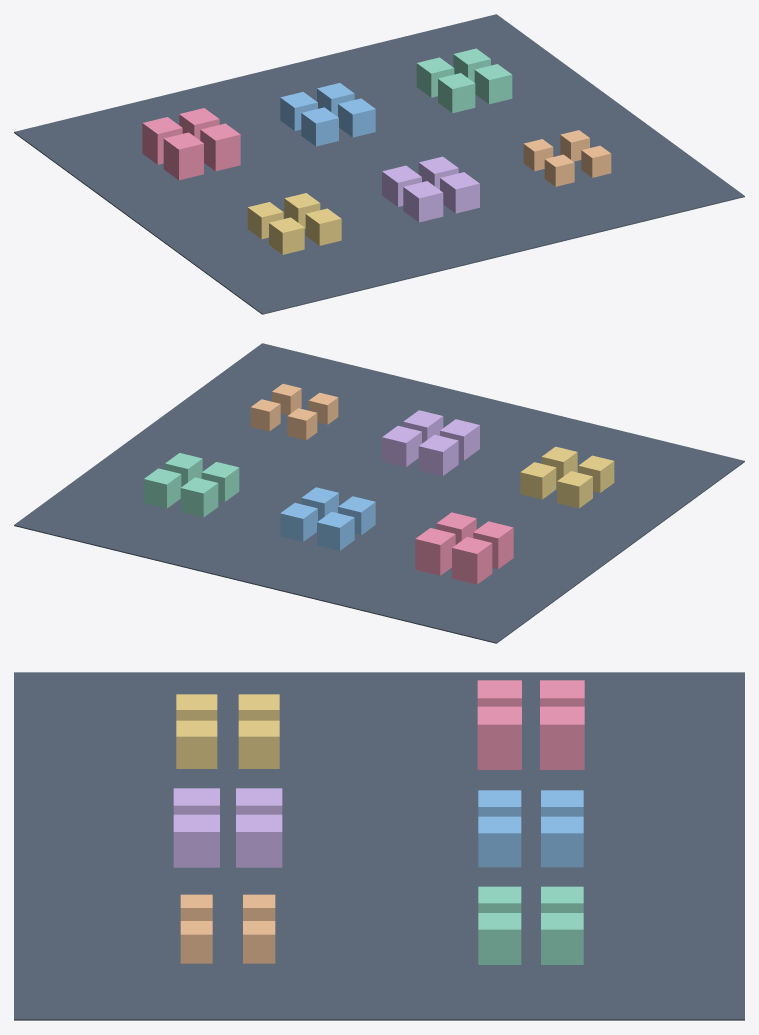
File: demo-fab.gltf
3 renders of one model, top to bottom at view 1: azimuth 30°, elevation 25°; view 2: azimuth 150°, elevation 25°; view 3: azimuth 270°, elevation 25°, orthographic. The views are drawn at different scales.
Parts seen in each view (by area): view 1: FLOOR, EUV_03, EUV_04, IMP_03, IMP_04, CVD_04, CVD_03, ETCH_03, ETCH_04, EUV_01, CMP_04, CMP_03 (+13 smaller); view 2: FLOOR, EUV_01, EUV_02, IMP_01, IMP_02, CVD_01, CVD_02, ETCH_01, ETCH_02, EUV_03, CMP_02, CMP_01 (+13 smaller); view 3: FLOOR, EUV_02, EUV_04, IMP_02, IMP_04, CVD_04, ETCH_04, ETCH_02, CVD_02, CMP_02, CMP_04, MET_02 (+13 smaller).
Part boxes in pixels (bbox=[...]): FLOOR: bbox=[14, 14, 744, 314]; EUV_03: bbox=[163, 132, 203, 180]; EUV_04: bbox=[200, 123, 240, 171]; IMP_03: bbox=[403, 181, 443, 222]; IMP_04: bbox=[440, 172, 479, 213]; CVD_04: bbox=[474, 64, 512, 104]; CVD_03: bbox=[438, 73, 475, 113]; ETCH_03: bbox=[301, 107, 338, 146]; ETCH_04: bbox=[338, 98, 375, 137]; EUV_01: bbox=[142, 117, 182, 164]; CMP_04: bbox=[305, 208, 341, 245]; CMP_03: bbox=[269, 217, 304, 254]; FLOOR: bbox=[14, 343, 744, 643]; EUV_01: bbox=[452, 537, 492, 584]; EUV_02: bbox=[415, 528, 455, 575]; IMP_01: bbox=[418, 434, 458, 475]; IMP_02: bbox=[382, 426, 421, 466]; CVD_01: bbox=[180, 477, 218, 517]; CVD_02: bbox=[144, 468, 181, 508]; ETCH_01: bbox=[317, 511, 354, 550]; ETCH_02: bbox=[280, 503, 317, 541]; EUV_03: bbox=[473, 521, 513, 569]; CMP_02: bbox=[520, 462, 556, 499]; CMP_01: bbox=[557, 471, 592, 508]; FLOOR: bbox=[14, 672, 744, 1020]; EUV_02: bbox=[540, 706, 584, 769]; EUV_04: bbox=[477, 706, 521, 769]; IMP_02: bbox=[236, 814, 282, 867]; IMP_04: bbox=[173, 814, 219, 867]; CVD_04: bbox=[478, 913, 521, 964]; ETCH_04: bbox=[478, 816, 521, 867]; ETCH_02: bbox=[541, 816, 583, 867]; CVD_02: bbox=[541, 913, 583, 964]; CMP_02: bbox=[238, 720, 279, 768]; CMP_04: bbox=[176, 720, 217, 768]; MET_02: bbox=[243, 921, 275, 963].
Bounding box in the file's own units: 92 × 5.8 × 82.
